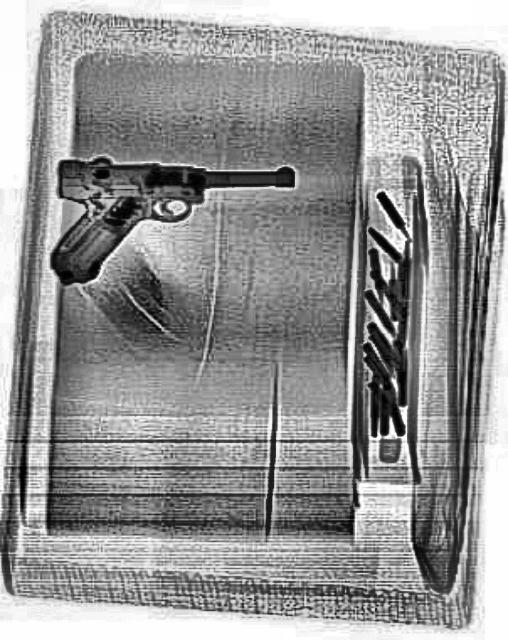Gun: (48, 155, 292, 289)
